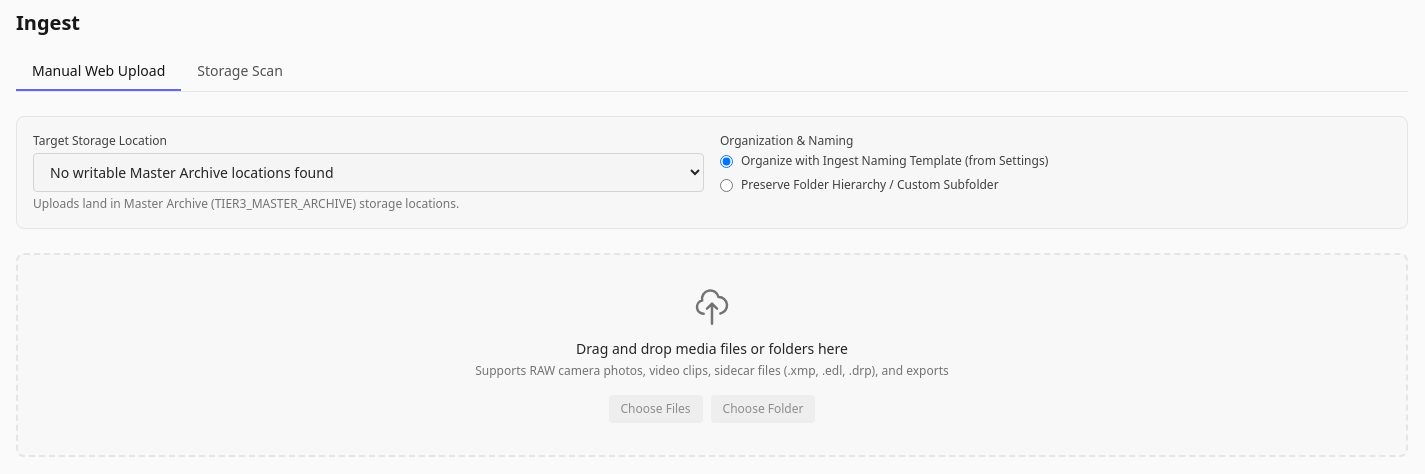
Test: IngestPage › renders a failed job row with its last error
Step 1. Click the tab "Storage Scan" → (240, 72), box [181,53,299,91]
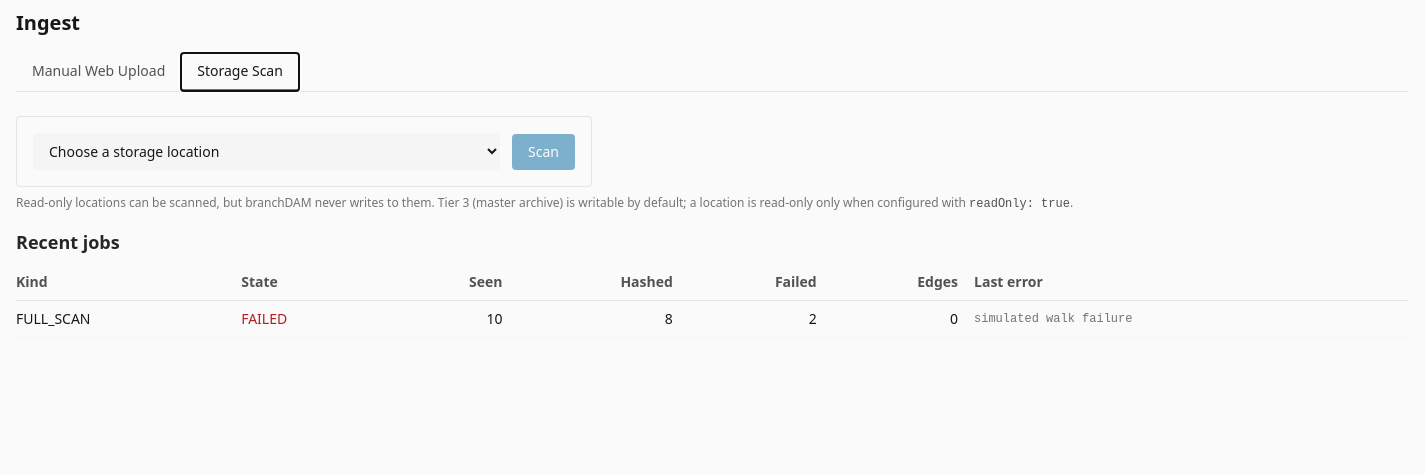
Now the text "FULL_SCAN" is shown, box [16,300,241,338]
Now the text "FAILED" is shown, box [241,300,396,338]
Now the text "simulated walk failure" is shown, box [974,300,1408,338]
